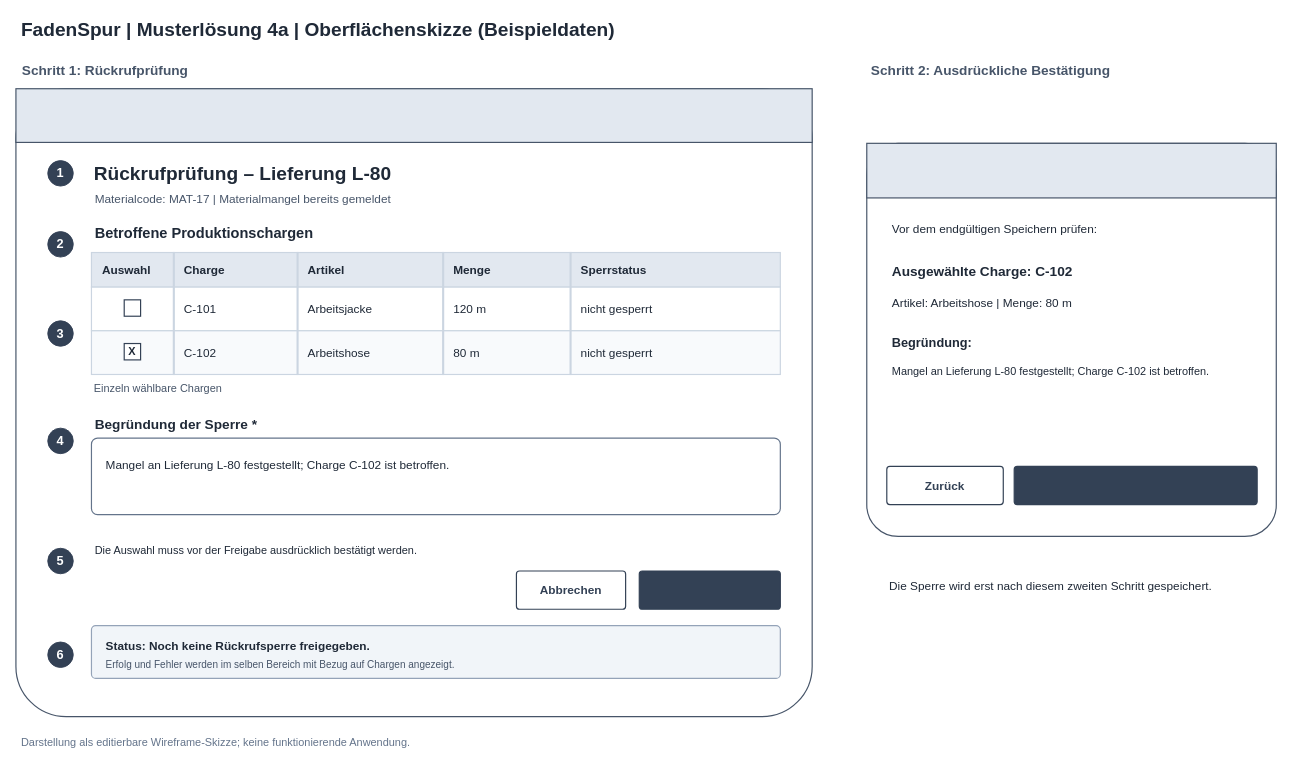
This 1298x767 diagram has some shape labels left out. Here are the shapes that lost their labels. From the top down, the centre of each, then its label:
(413,115): FadenSpur / Qualitätssicherung
(1071,170): Rückrufsperre bestätigen
(1135,485): Sperre endgültig freigeben
(709,589): Auswahl prüfen
